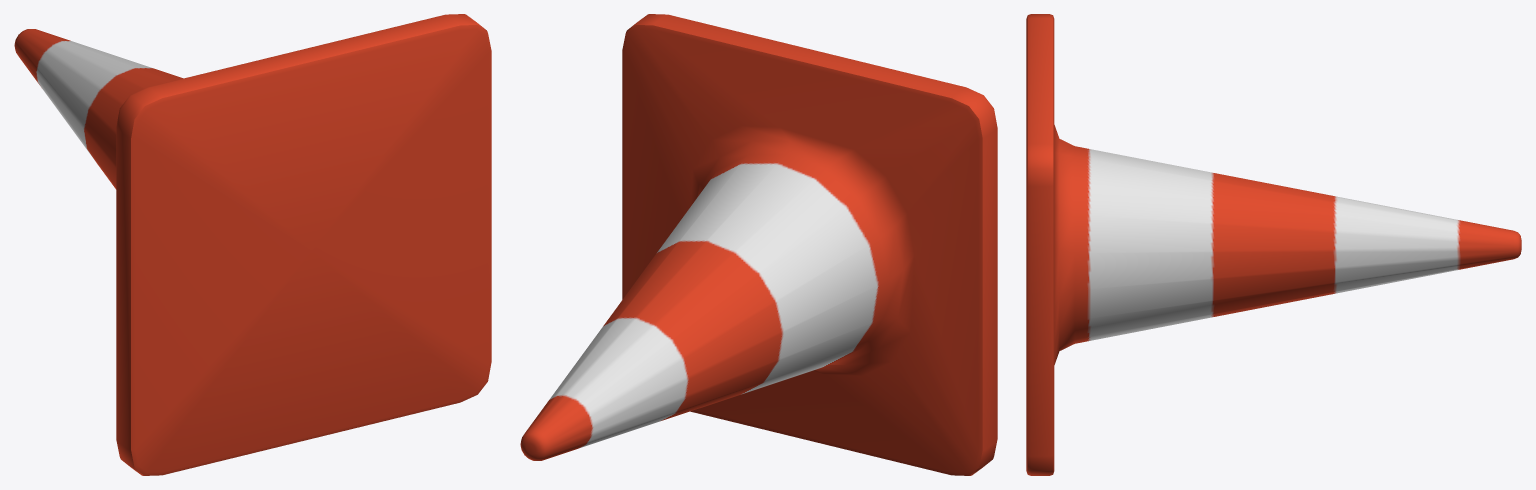
The model's file is Traffic Cone002.fbx.
3 renders of one model, left to right at view 1: azimuth 30°, elevation 25°; view 2: azimuth 150°, elevation 25°; view 3: azimuth 270°, elevation 25°, orthographic. The views are drawn at different scales.
Parts seen in each view (by area): view 1: Traffic Cone002; view 2: Traffic Cone002; view 3: Traffic Cone002.
Boxes of the visible parts, bbox=[...] form: Traffic Cone002: bbox=[14, 14, 491, 475]; Traffic Cone002: bbox=[520, 14, 997, 475]; Traffic Cone002: bbox=[1026, 14, 1521, 475].
Bounding box in the file's own units: 34.83 × 34.83 × 47.7.
Materials: 1 (1 with a texture image).
